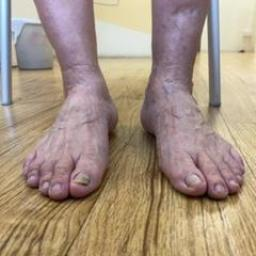Front View -Both Feet-: (16, 40, 251, 222)
